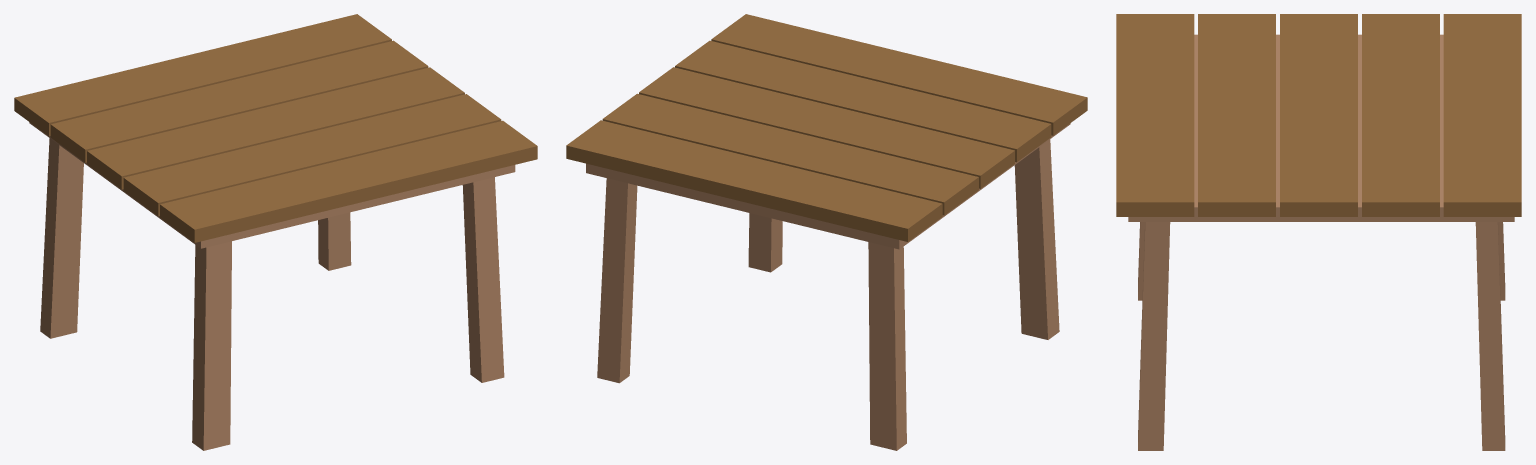
The model's file is Table 2.fbx.
3 views of the same model, side by side, from view 1: azimuth 30°, elevation 25°; view 2: azimuth 150°, elevation 25°; view 3: azimuth 270°, elevation 25° (orthographic). The views are drawn at different scales.
Parts seen in each view (by area): view 1: Table 2; view 2: Table 2; view 3: Table 2.
Boxes of the visible parts, bbox=[...] form: Table 2: bbox=[14, 14, 537, 450]; Table 2: bbox=[566, 14, 1087, 450]; Table 2: bbox=[1116, 14, 1521, 450].
Size of the model in its own units: 5.16 by 3.35 by 4.7.
